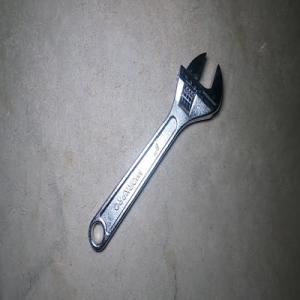Wrench: (88, 52, 222, 251)
